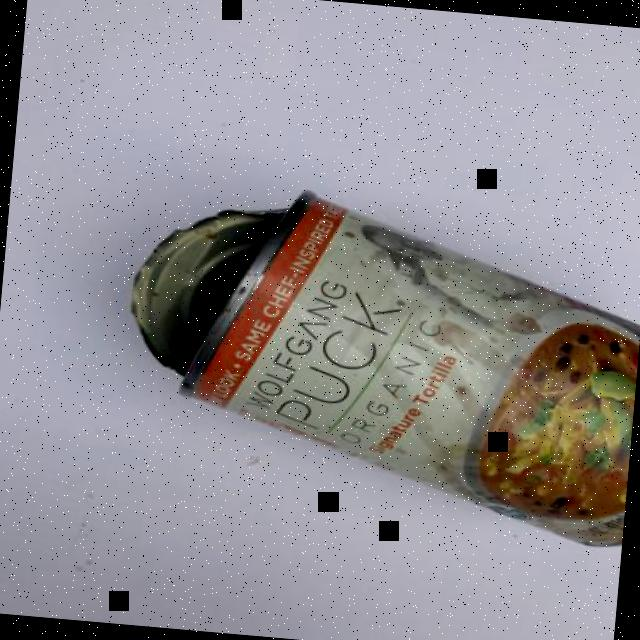can: (107, 171, 640, 552)
